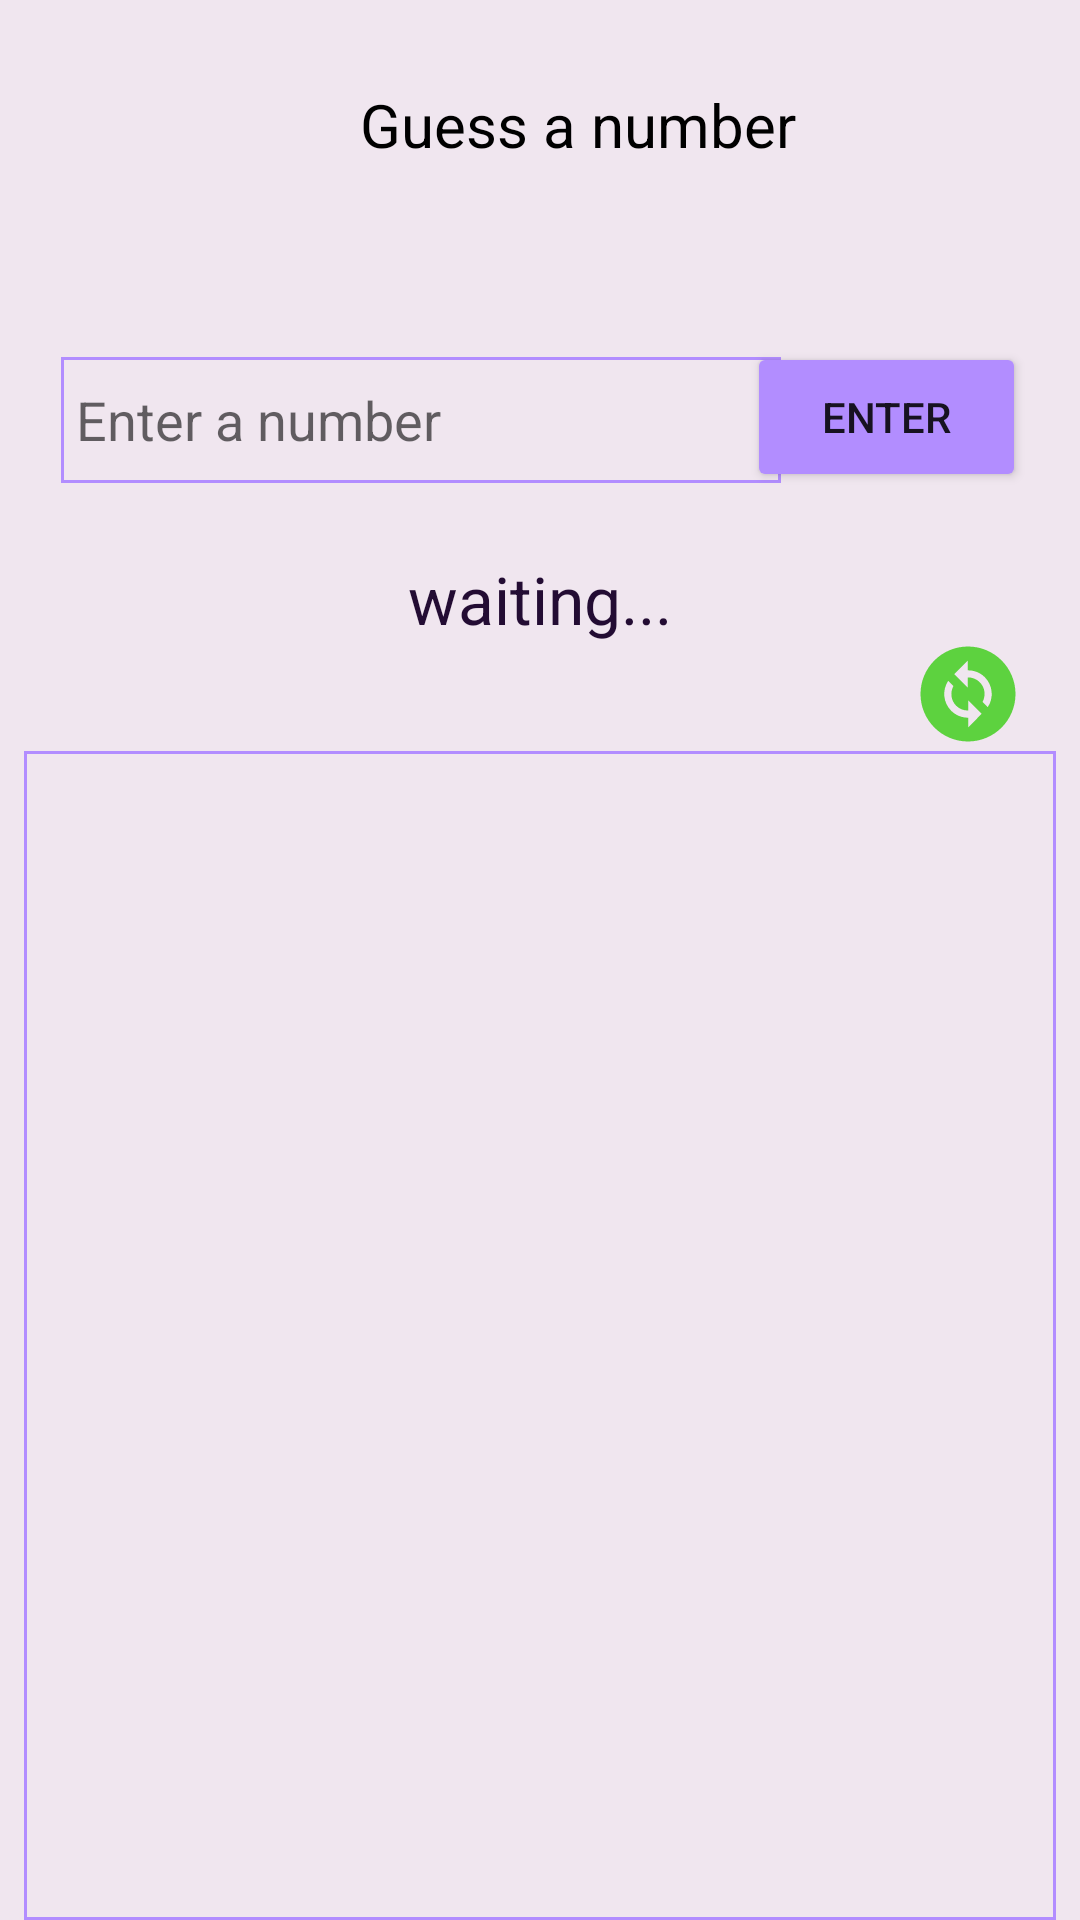

Named icons in this screenshot (1080w x 1920h) and their bounding boxes, box(x1, y1, x2, y2):
change circle: box(920, 646, 1016, 742)
